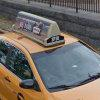Car: (5, 12, 100, 99)
